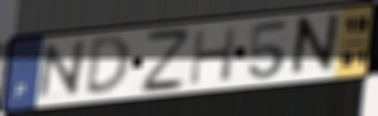5: (245, 17, 290, 82)
D: (82, 33, 133, 97)
H: (187, 24, 240, 88)
N: (286, 10, 343, 81), (34, 38, 90, 103)
Z: (138, 27, 191, 96)
